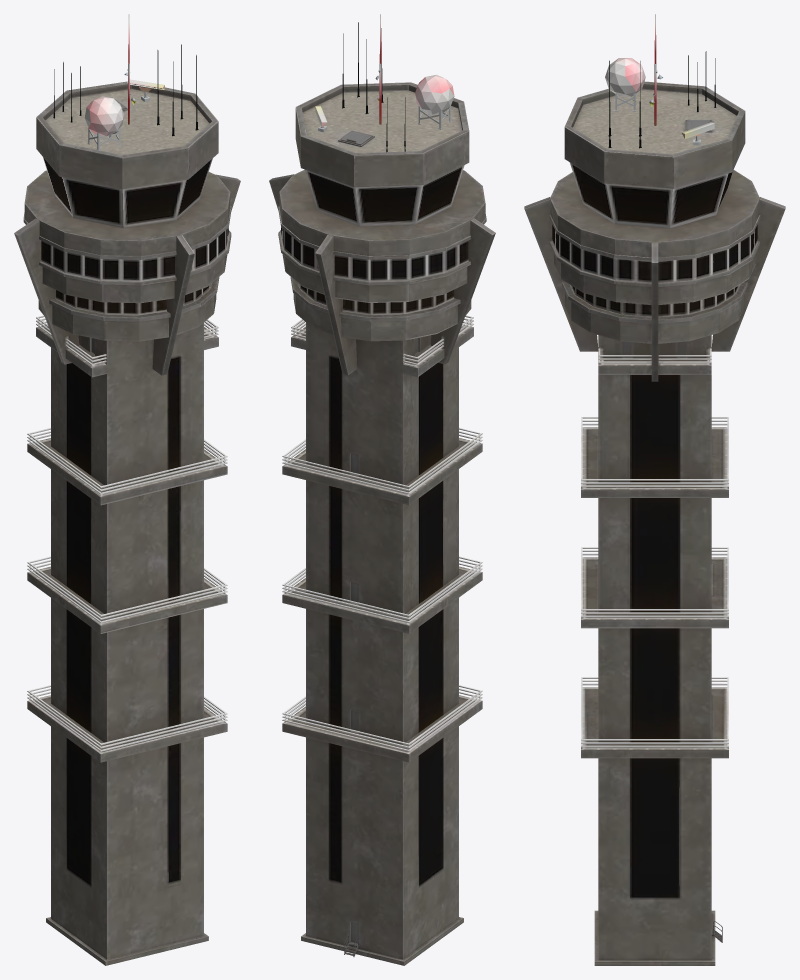
The model's file is atc-tower.walls-v1.lod1.glb.
3 renders of one model, left to right at view 1: azimuth 30°, elevation 25°; view 2: azimuth 150°, elevation 25°; view 3: azimuth 270°, elevation 25°, orthographic.
Parts seen in each view (by area): view 1: Cylinder.003_AirTower01MAT_0; view 2: Cylinder.003_AirTower01MAT_0; view 3: Cylinder.003_AirTower01MAT_0.
Part boxes in pixels (<box>): Cylinder.003_AirTower01MAT_0: <box>14,14,240,965</box>; Cylinder.003_AirTower01MAT_0: <box>269,14,495,965</box>; Cylinder.003_AirTower01MAT_0: <box>524,14,785,965</box>.
Size of the model in its own units: 8.17 by 32 by 8.17.
1 material, 1 textured.
